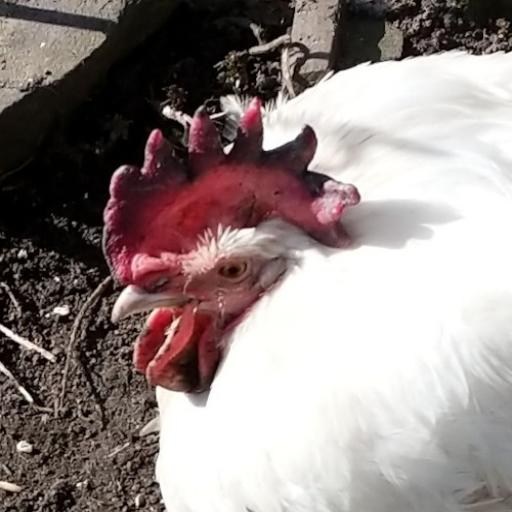disease: (234, 118, 310, 169), (329, 162, 366, 224), (110, 164, 140, 236), (150, 136, 199, 175), (140, 323, 176, 353)
